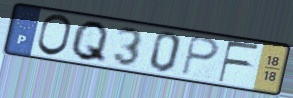0: (147, 30, 183, 75)
3: (111, 25, 145, 68)
F: (216, 40, 262, 85)
O: (35, 13, 74, 58)
P: (179, 34, 221, 78)
Q: (68, 19, 111, 66)
